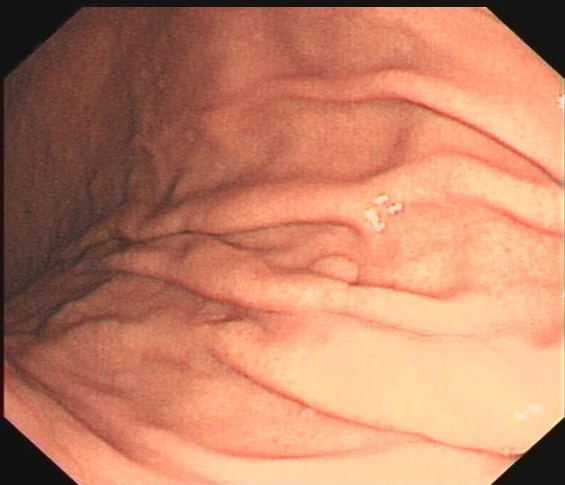Polyp: (279, 241, 377, 309)
